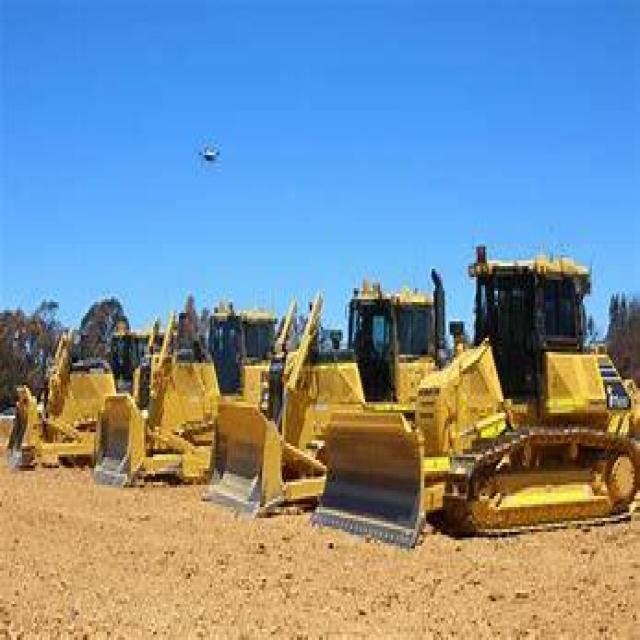buldozerpayloadergrader: (323, 246, 638, 548), (208, 296, 350, 526), (2, 291, 120, 518), (111, 310, 225, 510)
